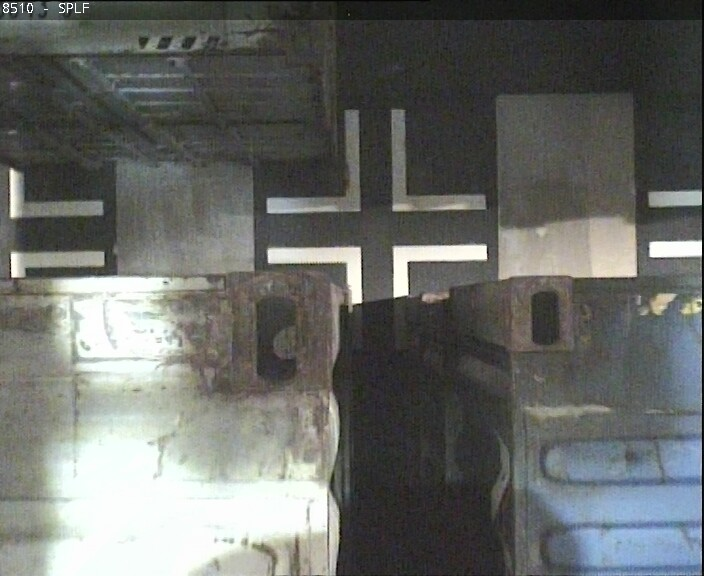groundmarker_1: (264, 242, 486, 347), (264, 110, 487, 214)
